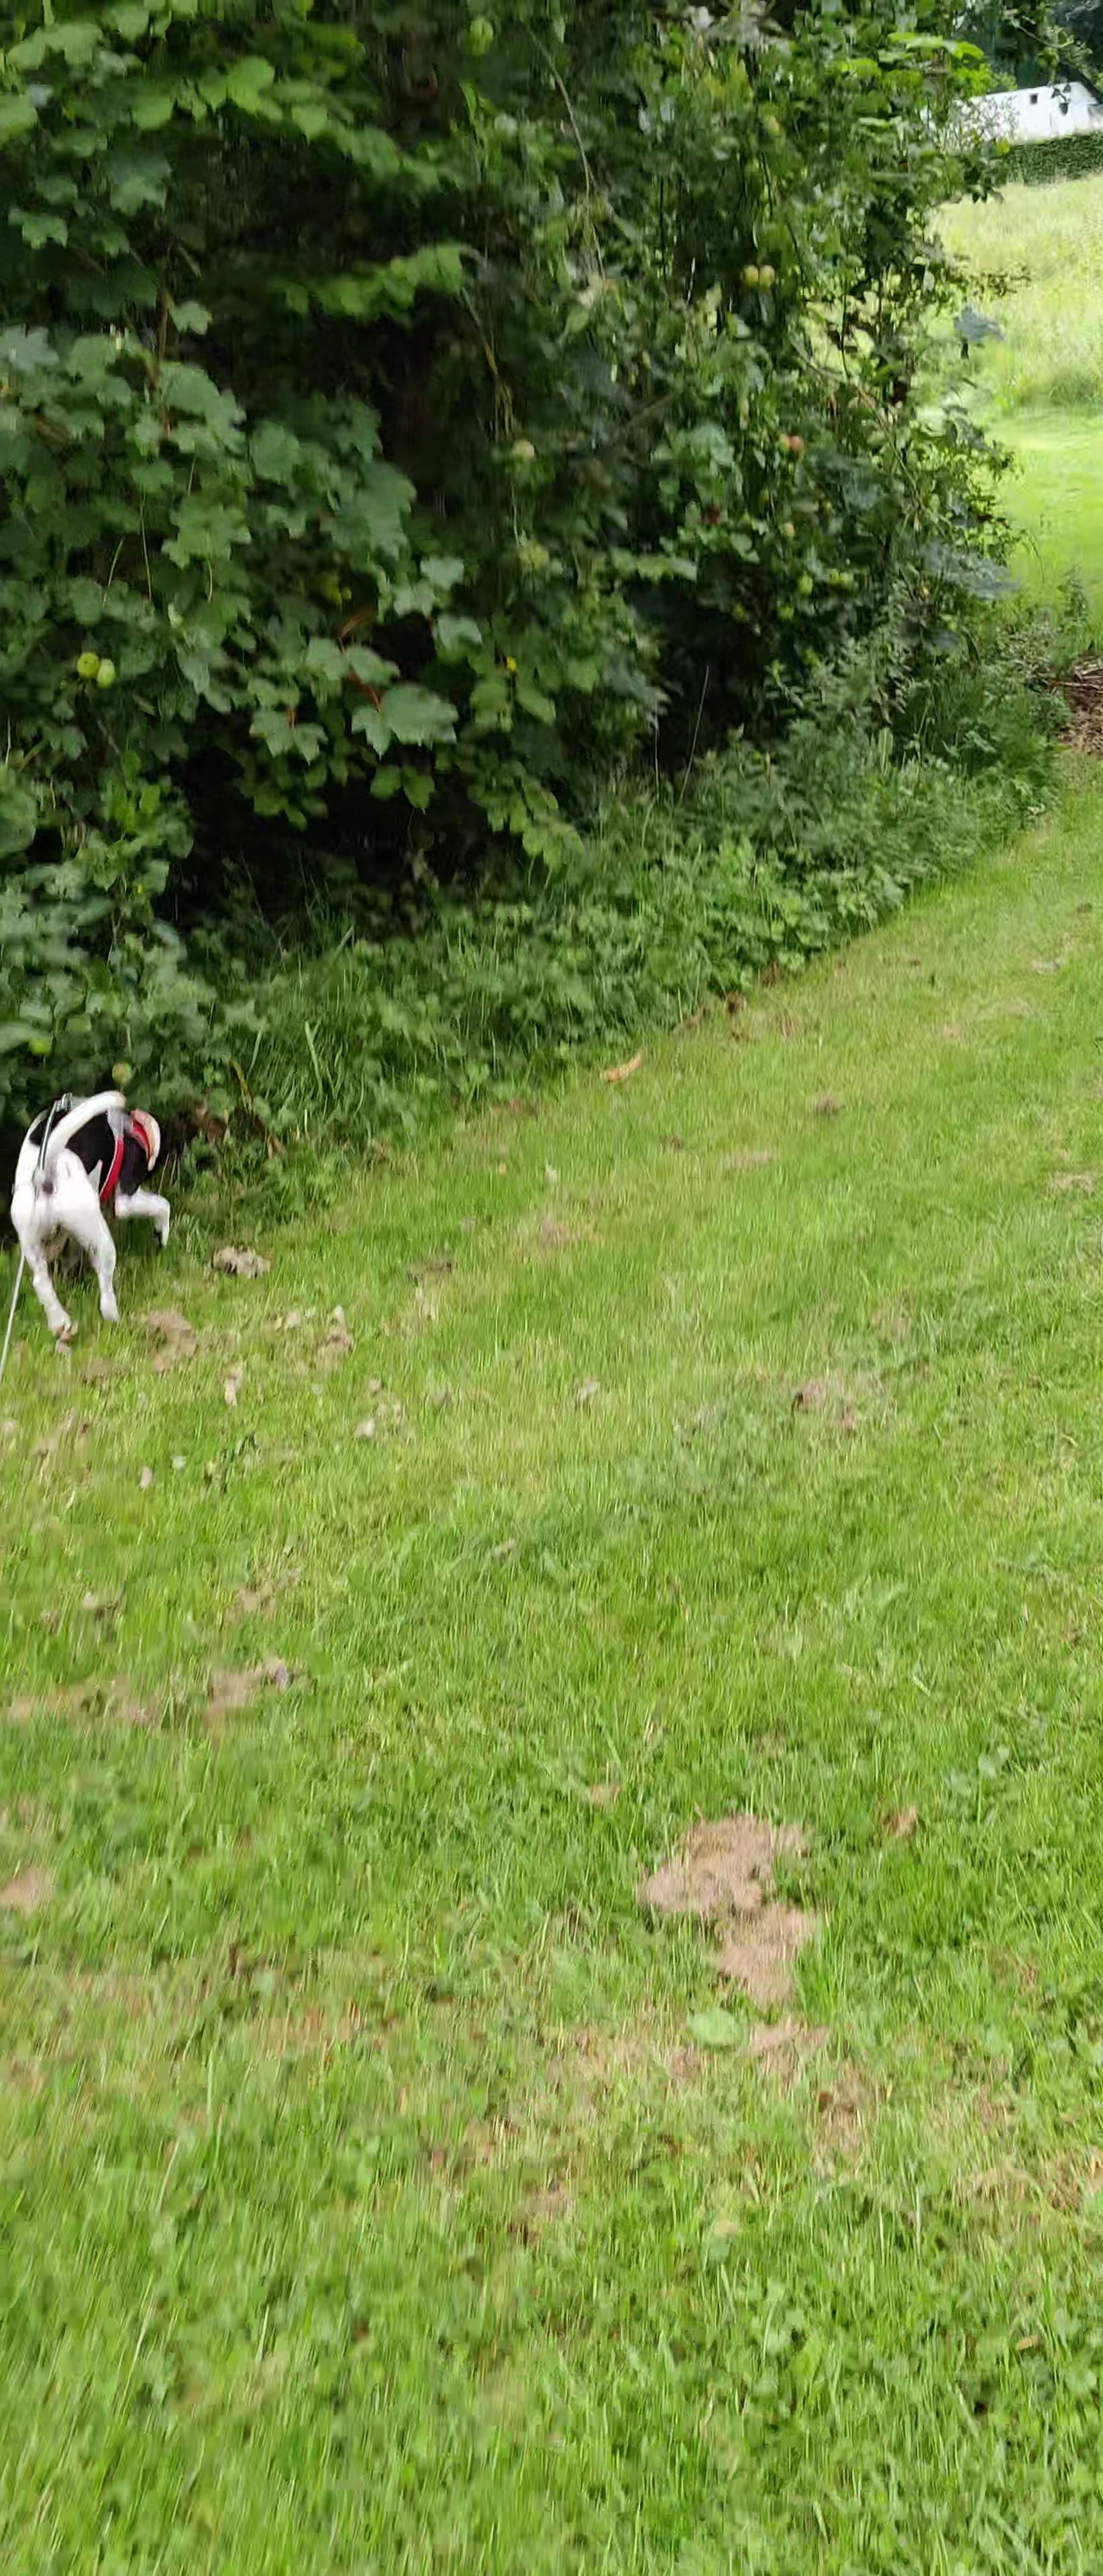Dog: (0, 1078, 202, 1347)
